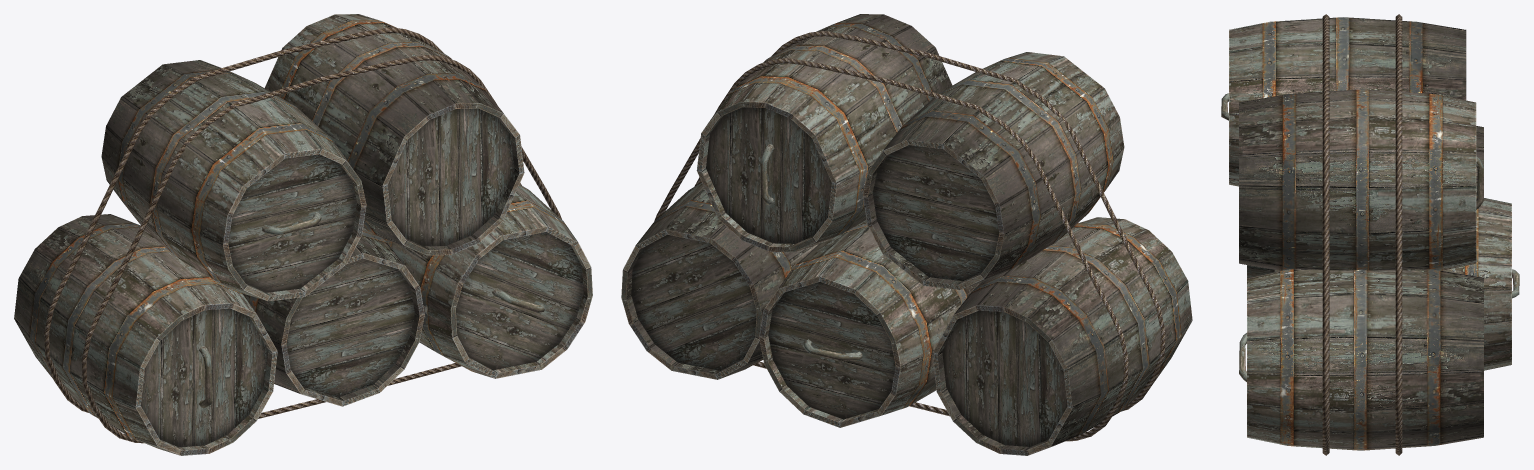
Rendered from Barrel3.fbx.
The picture shows the model from 3 angles, left to right: view 1: azimuth 30°, elevation 25°; view 2: azimuth 150°, elevation 25°; view 3: azimuth 270°, elevation 25°; orthographic projection. The views are drawn at different scales.
Visible parts, largest first — view 1: polySurface999; view 2: polySurface999; view 3: polySurface999.
Part boxes in pixels (<box>): polySurface999: <box>14,14,592,455</box>; polySurface999: <box>621,14,1192,455</box>; polySurface999: <box>1221,14,1519,455</box>.
Bounding box in the file's own units: 3.05 × 1.96 × 1.66.
